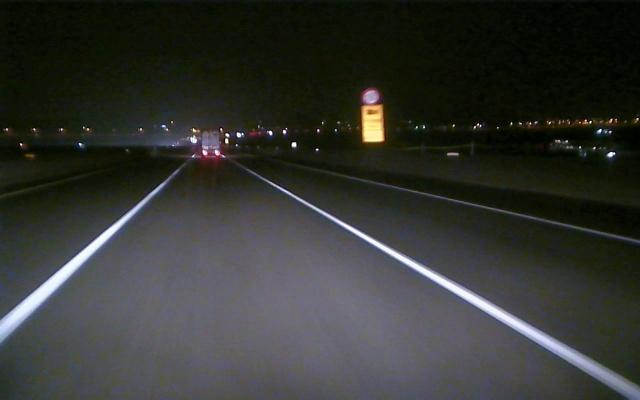lane: (256, 176, 632, 394), (3, 181, 164, 341), (365, 179, 640, 244)
